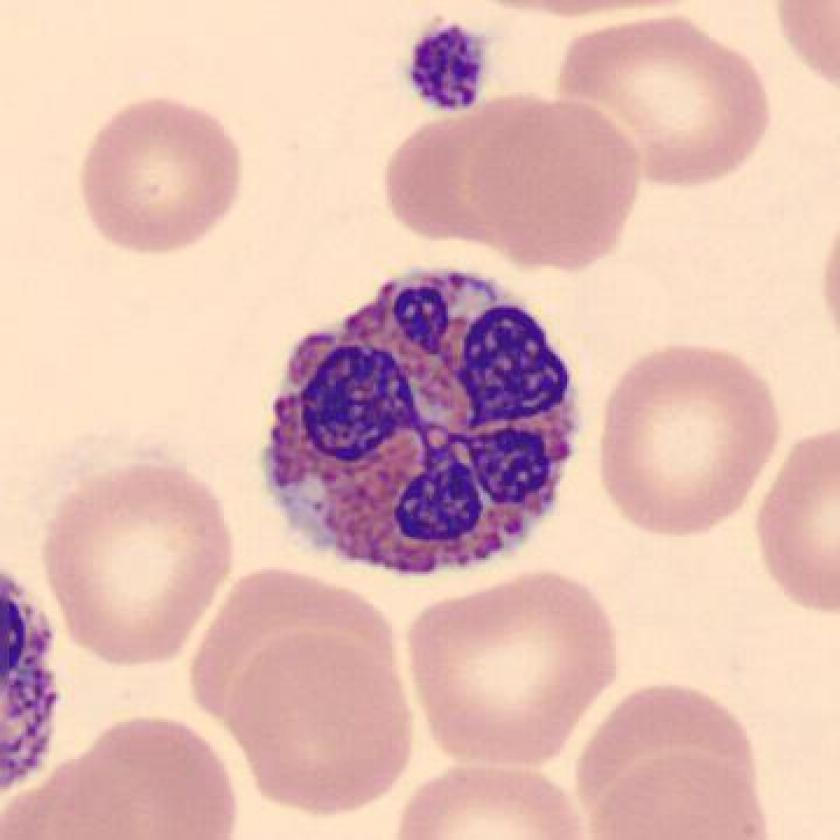eosinophil: (248, 258, 594, 593)
